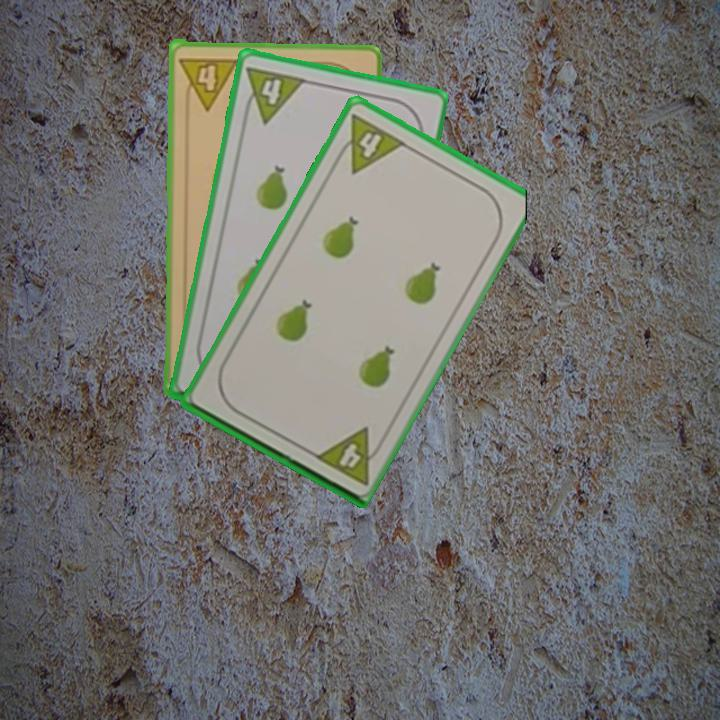4p: (329, 109, 408, 177), (310, 423, 388, 488), (239, 62, 308, 126), (176, 53, 241, 112)
